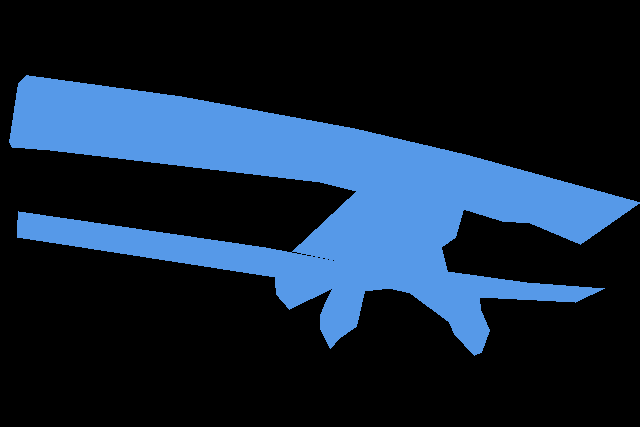Airplane: (9, 75, 640, 355)
